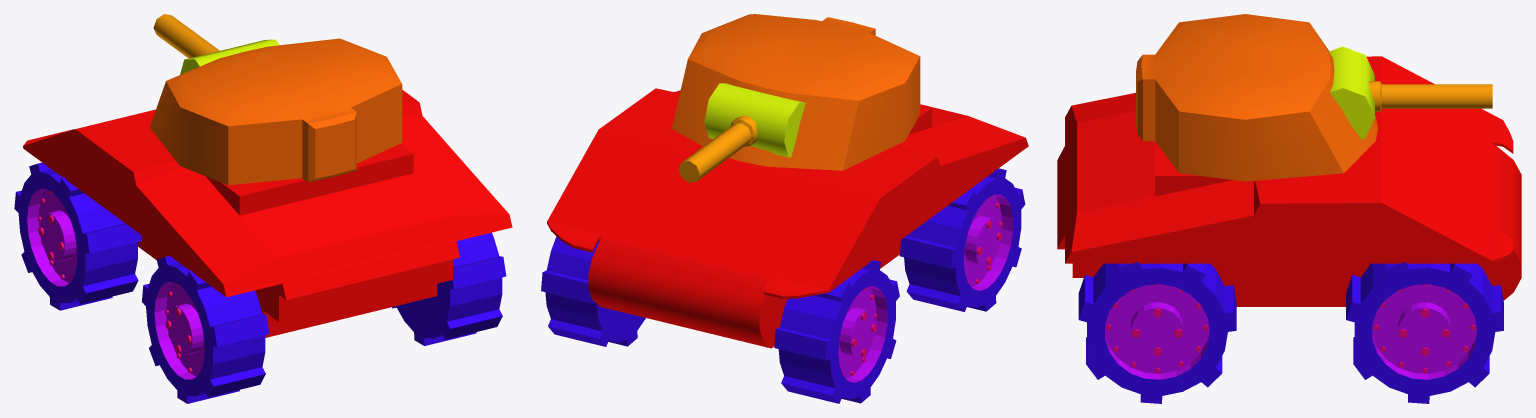
3 views of the same model, side by side, from view 1: azimuth 30°, elevation 25°; view 2: azimuth 150°, elevation 25°; view 3: azimuth 270°, elevation 25° (orthographic). The views are drawn at different scales.
Parts seen in each view (by area): view 1: Body, Wheels (×3), Turret, Canon, CanonPivotPoint; view 2: Body, Wheels (×3), Turret, CanonPivotPoint, Canon; view 3: Body, Wheels (×2), Turret, Canon, CanonPivotPoint.
Part boxes in pixels (x1,y1,x2,y2): Body: (23,90,512,337); Wheels (×3): (14,162,506,403); Turret: (150,38,402,185); Canon: (153,14,219,58); CanonPivotPoint: (180,39,279,74); Body: (547,88,1028,348); Wheels (×3): (541,168,1025,403); Turret: (672,14,920,170); CanonPivotPoint: (704,83,805,157); Canon: (678,115,757,182); Body: (1057,56,1521,306); Wheels (×2): (1078,262,1503,403); Turret: (1136,14,1377,181); Canon: (1368,81,1492,111); CanonPivotPoint: (1329,46,1374,139).
Size of the model in its own units: 2.01 by 1.68 by 2.62.
